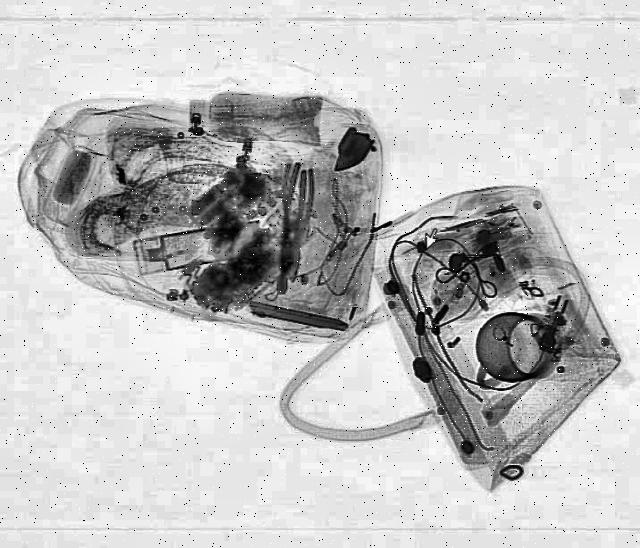Pliers: (270, 164, 312, 280)
